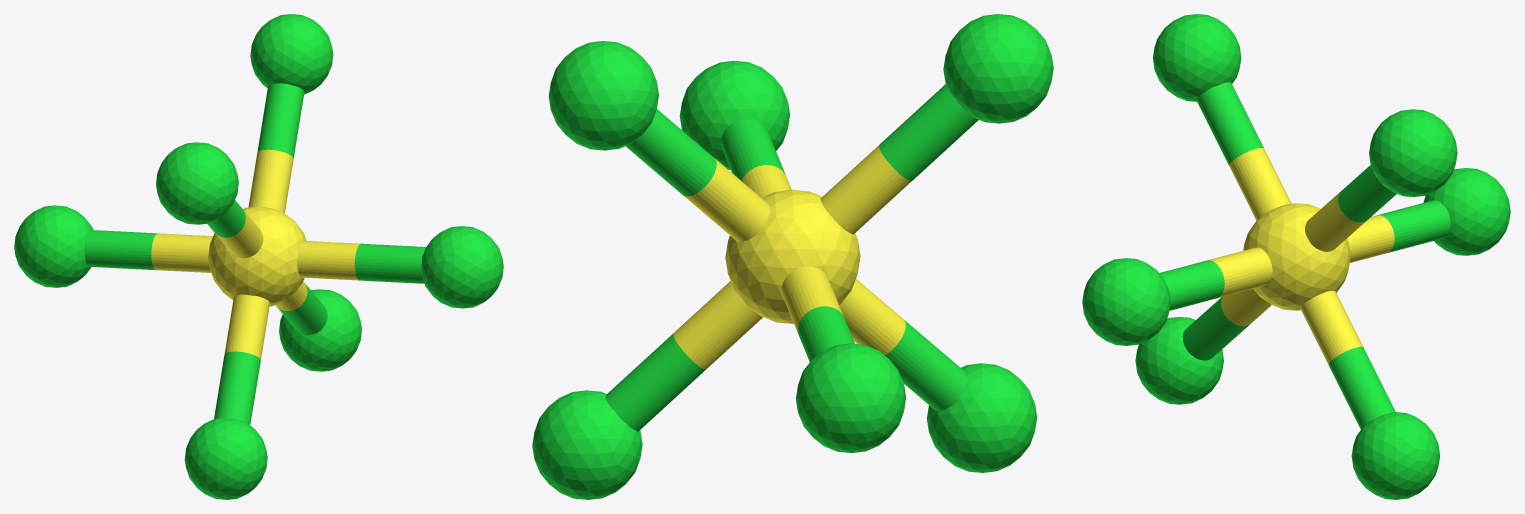
The picture shows the model from 3 angles, left to right: view 1: azimuth 30°, elevation 25°; view 2: azimuth 150°, elevation 25°; view 3: azimuth 270°, elevation 25°; orthographic projection. The views are drawn at different scales.
Parts seen in each view (by area): view 1: Shape_IndexedFaceSet, Shape_IndexedFaceSet.002, Shape_IndexedFaceSet.006, Shape_IndexedFaceSet.001, Shape_IndexedFaceSet.003, Shape_IndexedFaceSet.005, Shape_IndexedFaceSet.004, Shape_IndexedFaceSet.018, Shape_IndexedFaceSet.024, Shape_IndexedFaceSet.012, Shape_IndexedFaceSet.009, Shape_IndexedFaceSet.023 (+6 smaller); view 2: Shape_IndexedFaceSet, Shape_IndexedFaceSet.003, Shape_IndexedFaceSet.005, Shape_IndexedFaceSet.002, Shape_IndexedFaceSet.004, Shape_IndexedFaceSet.001, Shape_IndexedFaceSet.006, Shape_IndexedFaceSet.015, Shape_IndexedFaceSet.021, Shape_IndexedFaceSet.018, Shape_IndexedFaceSet.020, Shape_IndexedFaceSet.014 (+7 smaller); view 3: Shape_IndexedFaceSet, Shape_IndexedFaceSet.006, Shape_IndexedFaceSet.003, Shape_IndexedFaceSet.004, Shape_IndexedFaceSet.002, Shape_IndexedFaceSet.005, Shape_IndexedFaceSet.001, Shape_IndexedFaceSet.015, Shape_IndexedFaceSet.021, Shape_IndexedFaceSet.014, Shape_IndexedFaceSet.020, Shape_IndexedFaceSet.012 (+7 smaller).
Part boxes in pixels (x1,y1,x2,y2): Shape_IndexedFaceSet: (208,206,306,306); Shape_IndexedFaceSet.002: (156,142,238,224); Shape_IndexedFaceSet.006: (421,226,503,308); Shape_IndexedFaceSet.001: (184,417,267,499); Shape_IndexedFaceSet.003: (250,14,333,94); Shape_IndexedFaceSet.005: (14,205,93,287); Shape_IndexedFaceSet.004: (279,289,361,371); Shape_IndexedFaceSet.018: (257,83,304,157); Shape_IndexedFaceSet.024: (214,351,260,424); Shape_IndexedFaceSet.012: (84,230,157,270); Shape_IndexedFaceSet.009: (354,243,426,283); Shape_IndexedFaceSet.023: (224,294,269,359); Shape_IndexedFaceSet: (725,190,860,323); Shape_IndexedFaceSet.003: (548,41,658,150); Shape_IndexedFaceSet.005: (796,343,906,452); Shape_IndexedFaceSet.002: (943,14,1053,123); Shape_IndexedFaceSet.004: (532,390,642,499); Shape_IndexedFaceSet.001: (927,363,1037,472); Shape_IndexedFaceSet.006: (679,60,789,169); Shape_IndexedFaceSet.015: (605,334,705,431); Shape_IndexedFaceSet.021: (879,84,978,181); Shape_IndexedFaceSet.018: (625,109,716,196); Shape_IndexedFaceSet.020: (820,145,911,234); Shape_IndexedFaceSet.014: (673,281,762,369); Shape_IndexedFaceSet: (1243,203,1350,310); Shape_IndexedFaceSet.006: (1082,258,1170,345); Shape_IndexedFaceSet.003: (1369,109,1457,197); Shape_IndexedFaceSet.004: (1351,412,1439,499); Shape_IndexedFaceSet.002: (1153,14,1241,101); Shape_IndexedFaceSet.005: (1423,168,1510,255); Shape_IndexedFaceSet.001: (1135,317,1223,404); Shape_IndexedFaceSet.015: (1328,346,1395,429); Shape_IndexedFaceSet.021: (1196,82,1263,165); Shape_IndexedFaceSet.014: (1300,291,1363,364); Shape_IndexedFaceSet.020: (1229,147,1291,220); Shape_IndexedFaceSet.012: (1377,200,1450,252).
Size of the model in its own units: 3.78 by 4.02 by 4.12.
